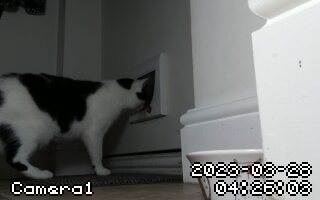bad: (4, 67, 153, 184)
